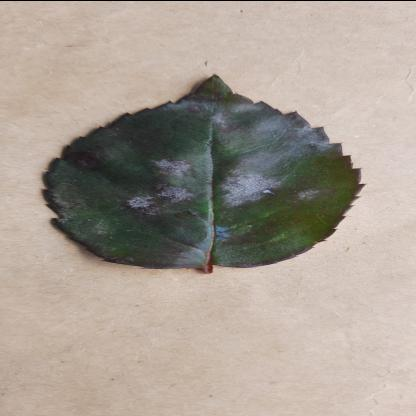powdery-mildew: (38, 72, 374, 270)
